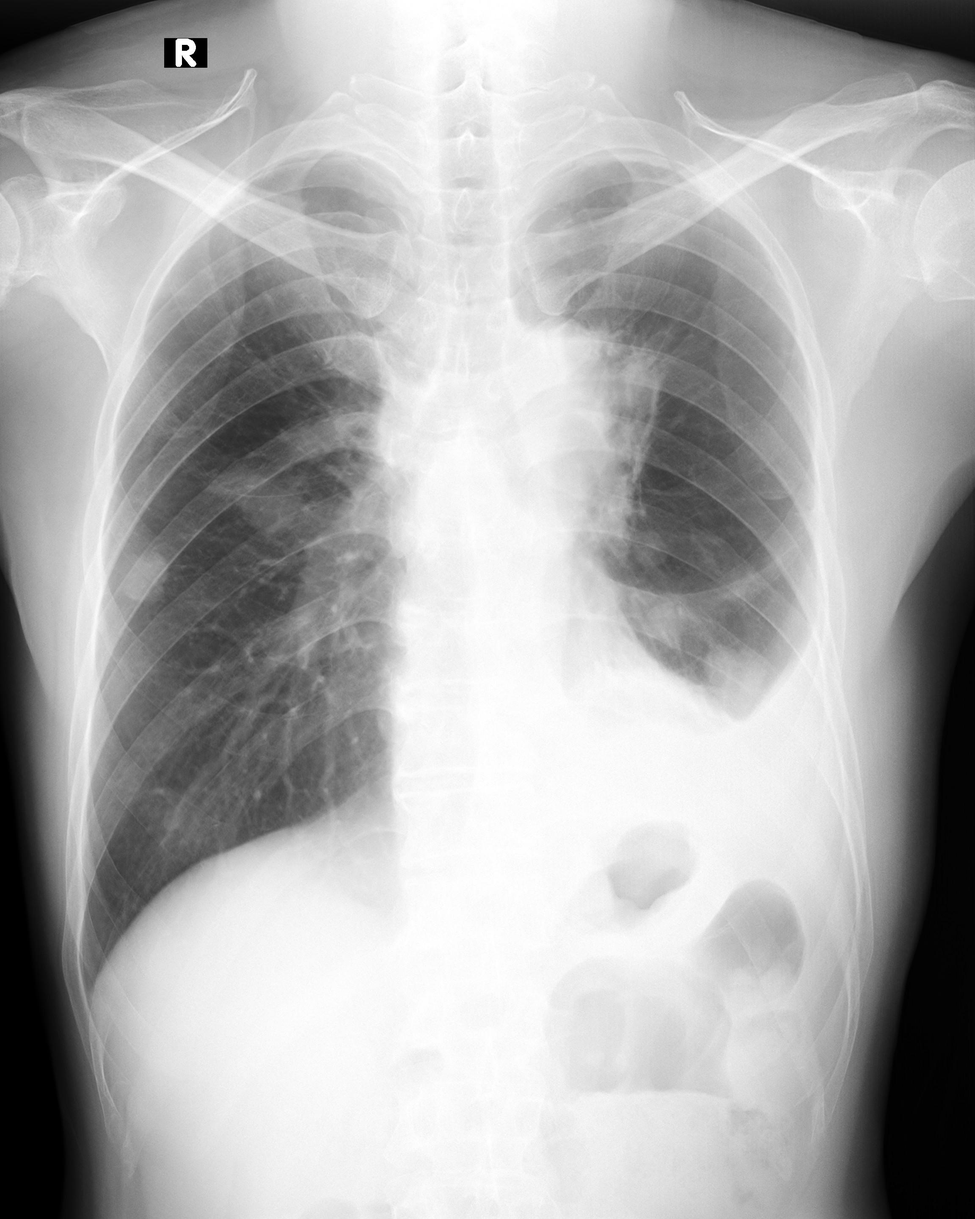Pulmonary fibrosis: (534, 322, 659, 523), (695, 538, 810, 621)
